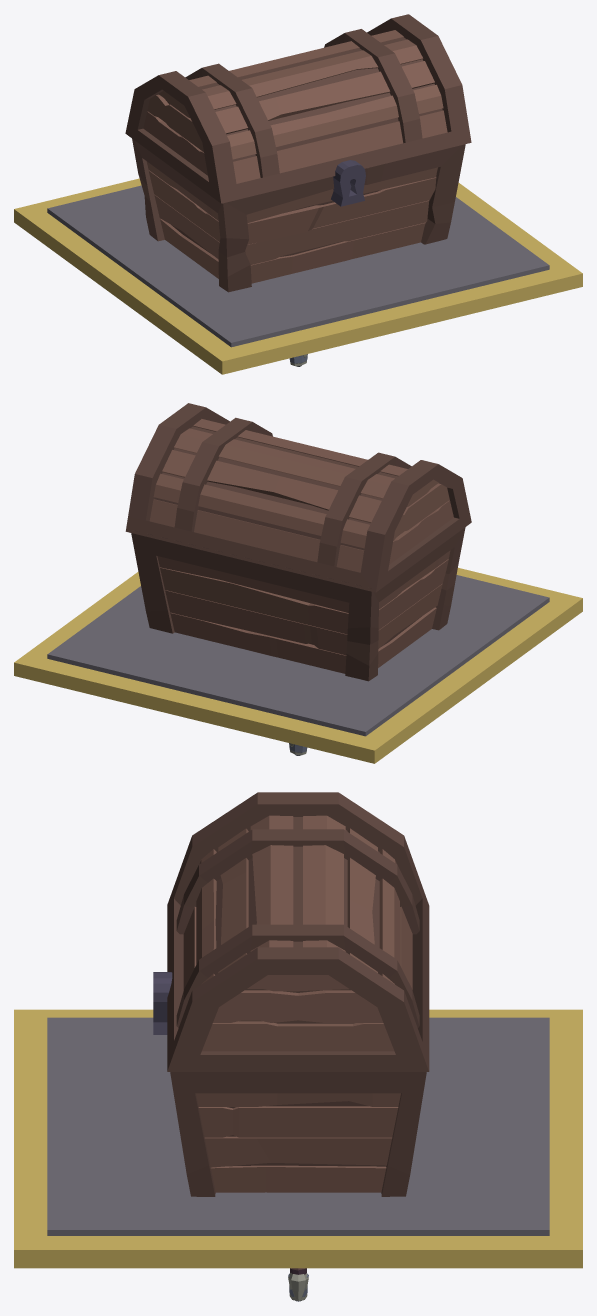
The model's file is items.glb.
3 views of the same model, one above another, from view 1: azimuth 30°, elevation 25°; view 2: azimuth 150°, elevation 25°; view 3: azimuth 270°, elevation 25° (orthographic). The views are drawn at different scales.
Visible parts, largest first — view 1: item_tile, item_chestLid, item_chestBase; view 2: item_tile, item_chestLid, item_chestBase; view 3: item_tile, item_chestLid, item_chestBase.
Part boxes in pixels (x1=…): item_tile: x1=14, y1=178, x2=582, y2=374; item_chestLid: x1=125, y1=14, x2=471, y2=203; item_chestBase: x1=132, y1=138, x2=465, y2=292; item_tile: x1=14, y1=567, x2=582, y2=763; item_chestLid: x1=125, y1=403, x2=471, y2=592; item_chestBase: x1=131, y1=527, x2=465, y2=681; item_tile: x1=14, y1=1009, x2=582, y2=1268; item_chestLid: x1=167, y1=792, x2=429, y2=1071; item_chestBase: x1=153, y1=972, x2=426, y2=1196.
Size of the model in its own units: 1.7 by 1.4 by 1.7.
